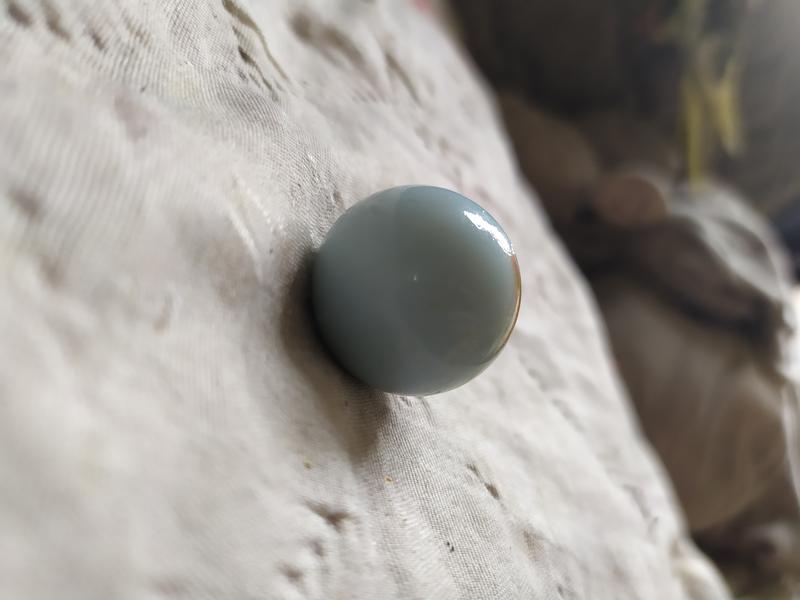Warning: (307, 178, 527, 400)
